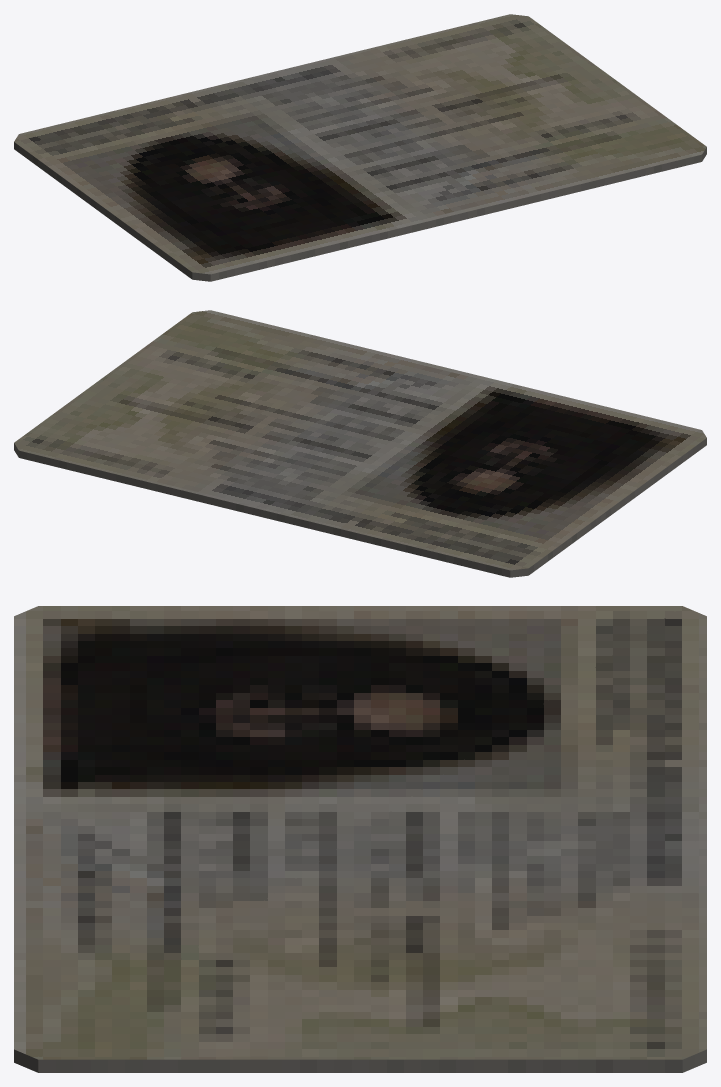
The picture shows the model from 3 angles, top to bottom: view 1: azimuth 30°, elevation 25°; view 2: azimuth 150°, elevation 25°; view 3: azimuth 270°, elevation 25°; orthographic projection. The views are drawn at different scales.
Parts seen in each view (by area): view 1: id_mp_1_1; view 2: id_mp_1_1; view 3: id_mp_1_1.
Boxes of the visible parts, x1,y1,x2,y2 form: id_mp_1_1: [14, 14, 706, 281]; id_mp_1_1: [14, 310, 706, 577]; id_mp_1_1: [14, 606, 706, 1072].
Size of the model in its own units: 0.132 by 0.0018 by 0.0852.
1 material, 1 textured.
